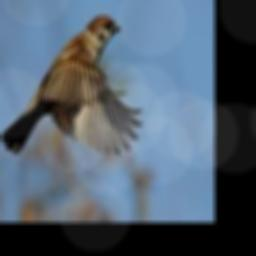Sparrow: (2, 15, 143, 156)
